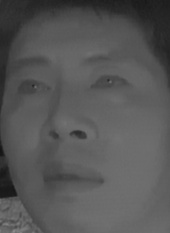eye: (88, 69, 129, 96), (15, 74, 53, 100)
mouth: (41, 155, 108, 199)
